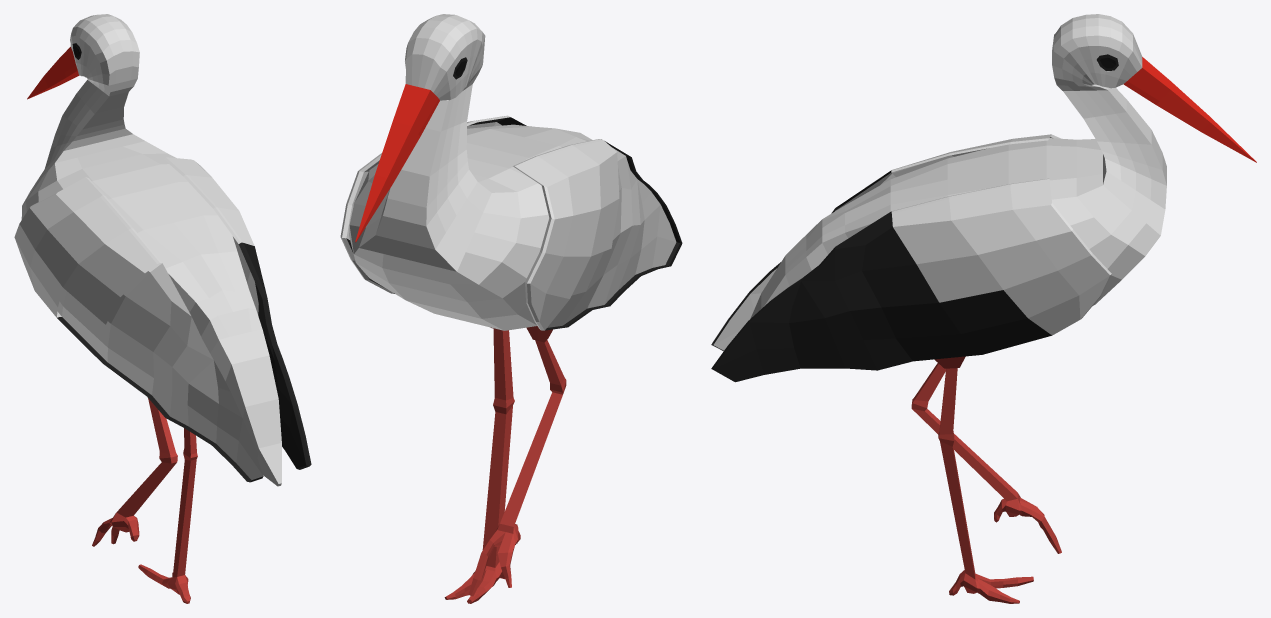
The model's file is stork.glb.
The picture shows the model from 3 angles, left to right: view 1: azimuth 30°, elevation 25°; view 2: azimuth 150°, elevation 25°; view 3: azimuth 270°, elevation 25°; orthographic projection. The views are drawn at different scales.
Visible parts, largest first — view 1: Stork body_2, Stork wing L_4, Stork wing R_3, Stork leg L_6, Stork leg R_5; view 2: Stork body_2, Stork wing L_4, Stork leg R_5, Stork leg L_6, Stork wing R_3; view 3: Stork wing R_3, Stork body_2, Stork leg R_5, Stork leg L_6, Stork wing L_4.
Boxes of the visible parts, <box> form: Stork body_2: <box>21,14,281,486</box>; Stork wing L_4: <box>14,177,263,482</box>; Stork wing R_3: <box>164,157,311,469</box>; Stork leg L_6: <box>92,398,177,546</box>; Stork leg R_5: <box>138,428,197,603</box>; Stork body_2: <box>349,14,592,330</box>; Stork wing L_4: <box>513,139,682,330</box>; Stork leg R_5: <box>444,327,514,603</box>; Stork leg L_6: <box>468,326,566,596</box>; Stork wing R_3: <box>340,115,526,293</box>; Stork wing R_3: <box>711,178,1111,382</box>; Stork body_2: <box>750,14,1256,318</box>; Stork leg R_5: <box>934,356,1033,603</box>; Stork leg L_6: <box>911,363,1061,553</box>; Stork wing L_4: <box>711,134,1060,351</box>.
Bounding box in the file's own units: 0.3478 × 1.03 × 0.898.
